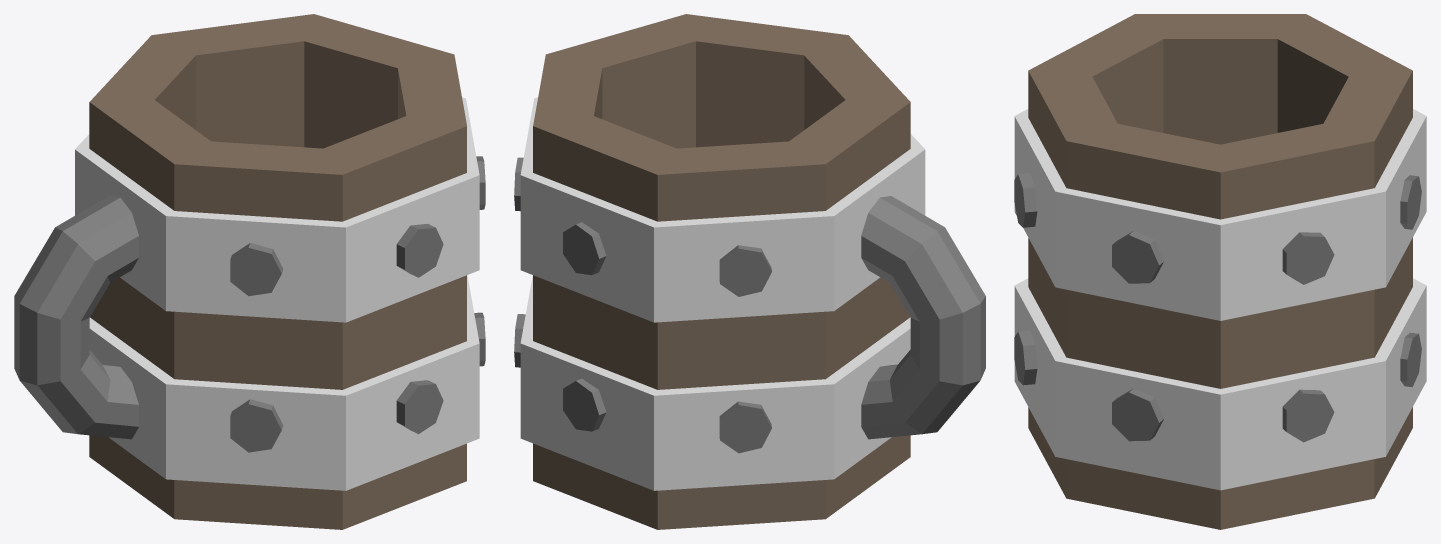
The model's file is Cup_Model.fbx.
The picture shows the model from 3 angles, left to right: view 1: azimuth 30°, elevation 25°; view 2: azimuth 150°, elevation 25°; view 3: azimuth 270°, elevation 25°; orthographic projection.
Visible parts, largest first — view 1: Body, Belt, pasted__pasted__pCylinder1, Handle, pasted__pCylinder2 (×2), pasted__pasted__pCylinder2, Bolt; view 2: Body, Belt, pasted__pasted__pCylinder1, Handle, pasted__pasted__pasted__pasted__pCylinder2 (×2), pasted__pasted__pasted__pasted__pasted__pCylinder2, pasted__pasted__pasted__pCylinder2; view 3: Body, Belt, pasted__pasted__pCylinder1, pasted__pasted__pCylinder2 (×2), pasted__pCylinder2 (×2), pasted__pasted__pasted__pCylinder2 (×2), Bolt, pasted__pasted__pasted__pasted__pCylinder2.
Boxes of the visible parts, x1,y1,x2,y2 form: Body: (89, 14, 466, 529); Belt: (75, 97, 479, 322); pasted__pasted__pCylinder1: (89, 275, 479, 490); Handle: (14, 196, 138, 439); pasted__pCylinder2 (×2): (230, 243, 443, 434); pasted__pasted__pCylinder2: (230, 399, 283, 452); Bolt: (396, 223, 443, 277); Body: (533, 14, 910, 529); Belt: (520, 97, 925, 322); pasted__pasted__pCylinder1: (520, 275, 910, 490); Handle: (861, 196, 985, 439); pasted__pasted__pasted__pasted__pCylinder2 (×2): (563, 245, 771, 431); pasted__pasted__pasted__pasted__pasted__pCylinder2: (719, 401, 771, 453); pasted__pasted__pasted__pCylinder2: (563, 222, 606, 275); Body: (1028, 14, 1412, 529); Belt: (1014, 109, 1426, 320); pasted__pasted__pCylinder1: (1014, 278, 1426, 490); pasted__pasted__pCylinder2 (×2): (1112, 232, 1334, 441); pasted__pCylinder2 (×2): (1014, 231, 1164, 385); pasted__pasted__pasted__pCylinder2 (×2): (1282, 175, 1421, 442); Bolt: (1014, 173, 1037, 227); pasted__pasted__pasted__pasted__pCylinder2: (1400, 332, 1421, 387).
Bounding box in the file's own units: 59.2 × 45 × 47.04.
